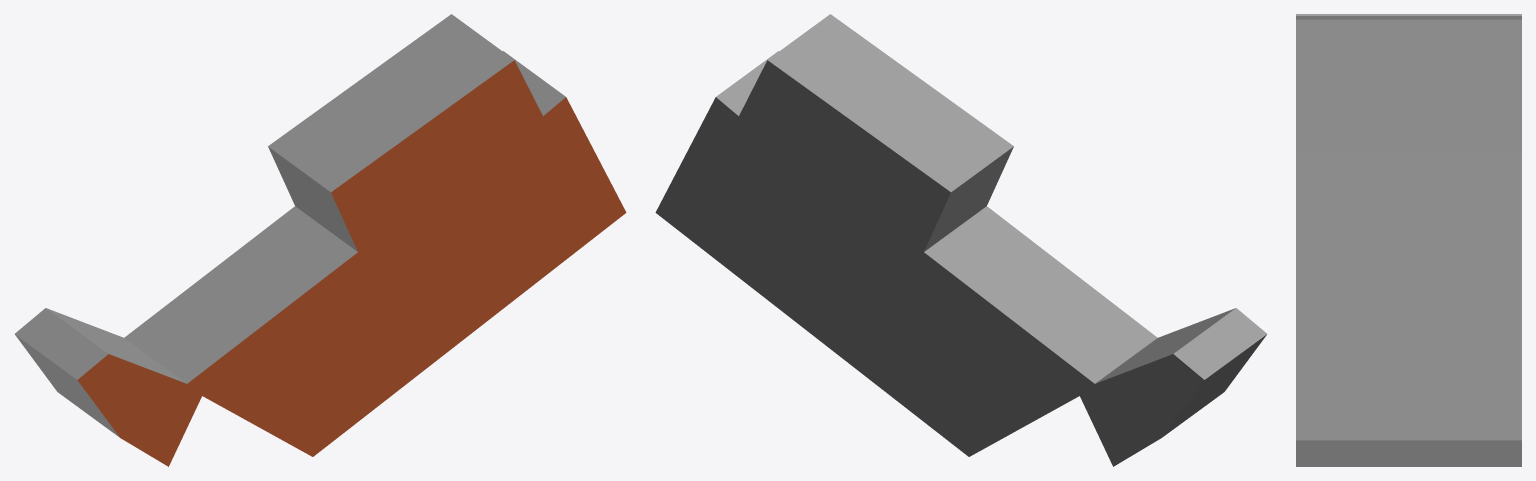
File: construction_5758_assumed_A_Casa_h6m.obj
The picture shows the model from 3 angles, left to right: view 1: azimuth 30°, elevation 25°; view 2: azimuth 150°, elevation 25°; view 3: azimuth 270°, elevation 25°; orthographic projection. The views are drawn at different scales.
Parts seen in each view (by area): view 1: construction_5758_assumed_A_Casa; view 2: construction_5758_assumed_A_Casa; view 3: construction_5758_assumed_A_Casa.
Boxes of the visible parts, x1,y1,x2,y2 form: construction_5758_assumed_A_Casa: [15, 14, 626, 466]; construction_5758_assumed_A_Casa: [655, 14, 1266, 466]; construction_5758_assumed_A_Casa: [1296, 14, 1521, 466].
Bounding box in the file's own units: 30.2 × 18.29 × 6.
